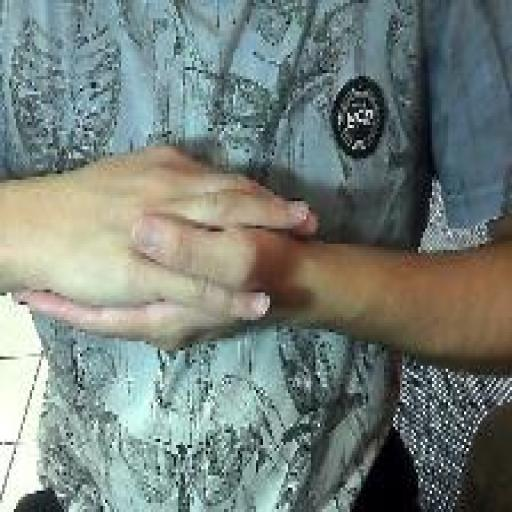Saru -monkey-: (7, 139, 322, 358)
